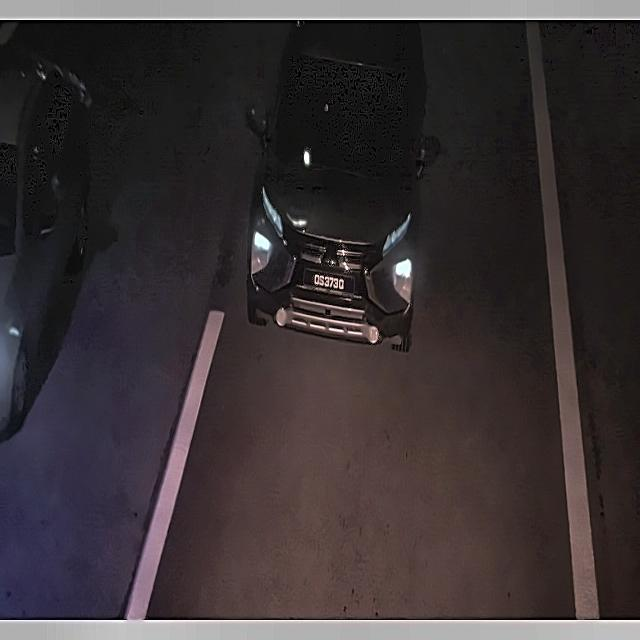car: (300, 263, 358, 300)
